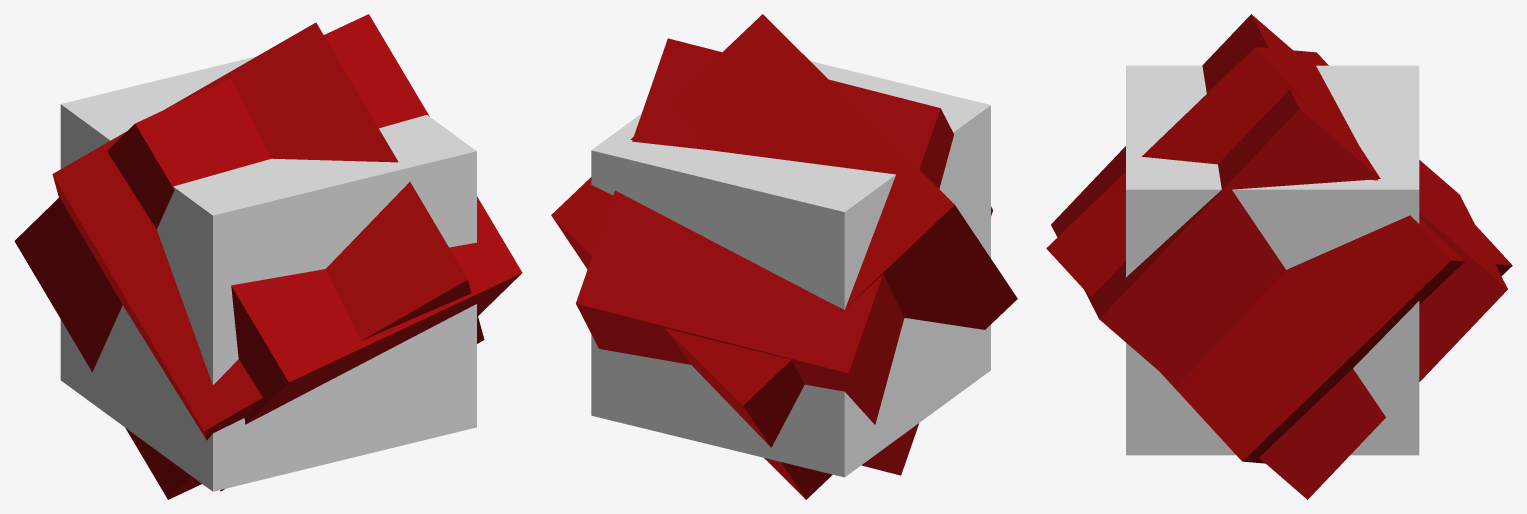
The model's file is kup.fbx.
3 views of the same model, side by side, from view 1: azimuth 30°, elevation 25°; view 2: azimuth 150°, elevation 25°; view 3: azimuth 270°, elevation 25° (orthographic). The views are drawn at different scales.
Visible parts, largest first — view 1: Cube, Cube.001, Cube.002; view 2: Cube, Cube.002, Cube.001; view 3: Cube.001, Cube.002, Cube.
Part boxes in pixels (x1,y1,x2,y2): Cube: [60, 56, 476, 491]; Cube.001: [14, 14, 522, 499]; Cube.002: [52, 22, 484, 491]; Cube: [591, 61, 990, 477]; Cube.002: [551, 14, 1017, 499]; Cube.001: [576, 38, 992, 475]; Cube.001: [1051, 14, 1507, 499]; Cube.002: [1046, 47, 1512, 463]; Cube: [1126, 65, 1419, 455].
Size of the model in its own units: 298 by 341 by 318.
